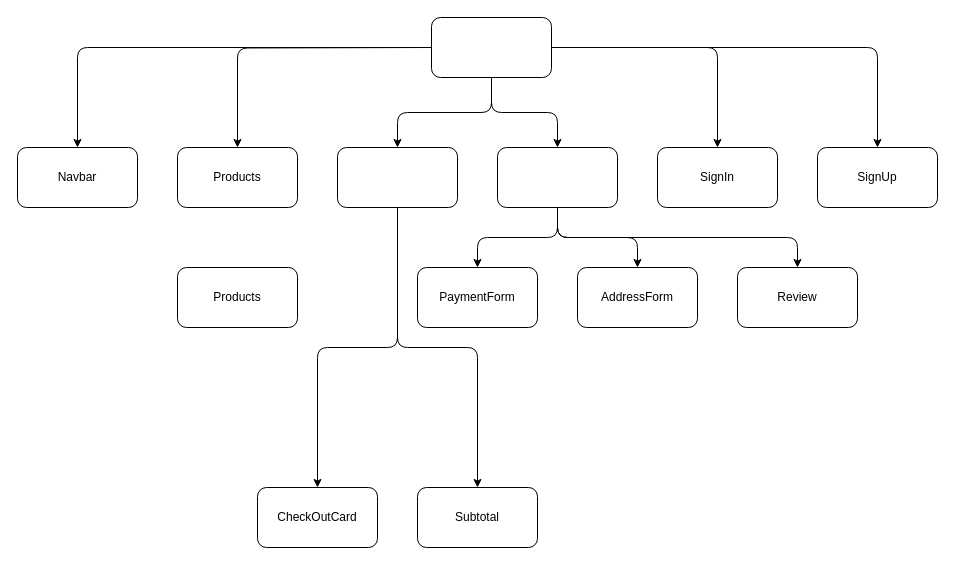
Some shapes in this 955 by 565 pixel diagram are drawn without their labels. The shapes that lost their labels are listed below. From the top down, each one's centre as x and y in pixels, then its label:
(x=491, y=47): App.js
(x=397, y=177): CheckOutPage
(x=557, y=177): CheckOut
